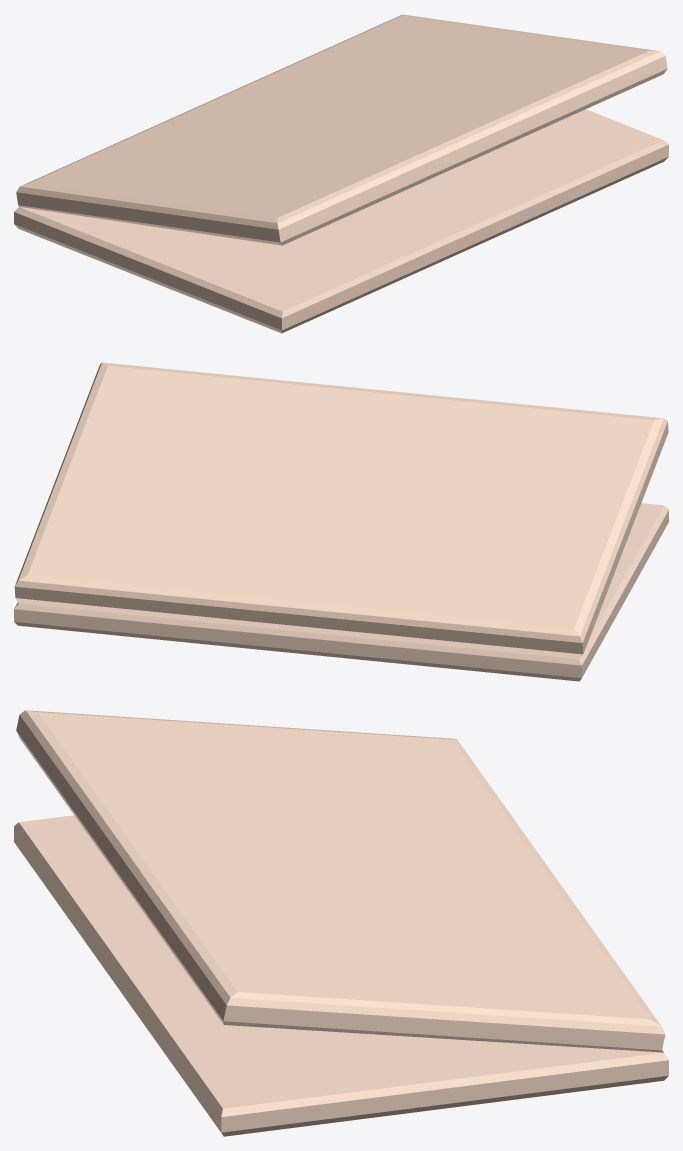
3 renders of one model, top to bottom at view 1: azimuth 30°, elevation 25°; view 2: azimuth 150°, elevation 25°; view 3: azimuth 270°, elevation 25°, orthographic. The views are drawn at different scales.
Parts seen in each view (by area): view 1: Computer_Cube.010; view 2: Computer_Cube.010; view 3: Computer_Cube.010.
Boxes of the visible parts, x1,y1,x2,y2 form: Computer_Cube.010: (14, 14, 668, 333); Computer_Cube.010: (14, 362, 668, 681); Computer_Cube.010: (14, 710, 668, 1136).
Bounding box in the file's own units: 1.46 × 0.2762 × 1.16.
